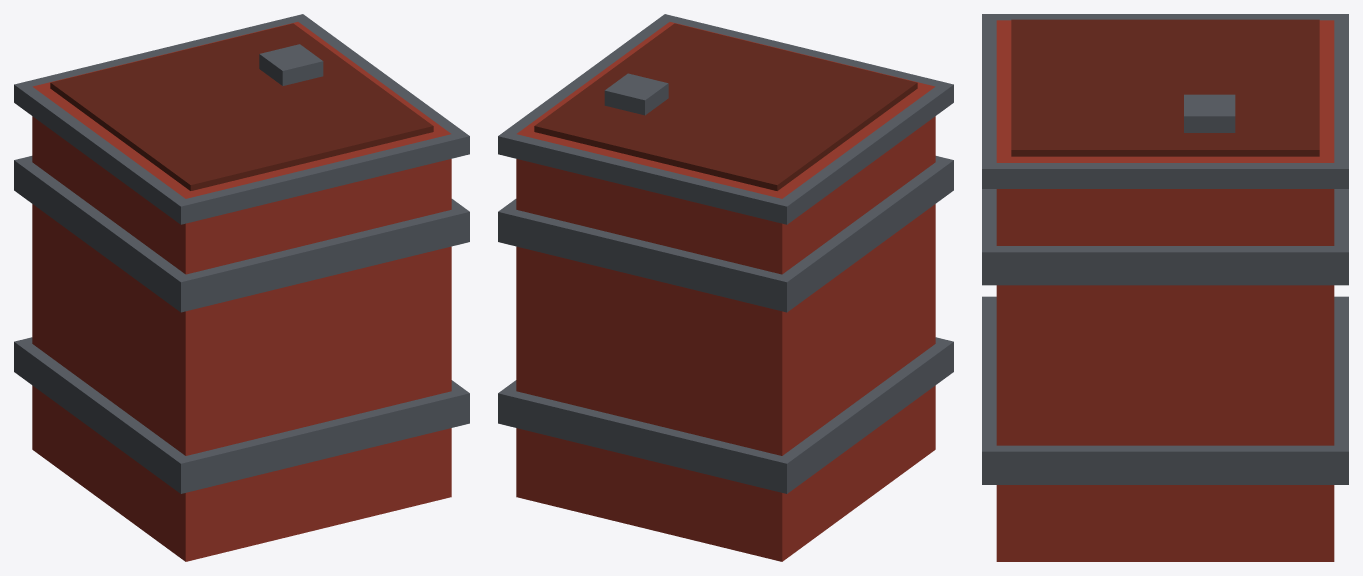
File: barrel.glb
The picture shows the model from 3 angles, left to right: view 1: azimuth 30°, elevation 25°; view 2: azimuth 150°, elevation 25°; view 3: azimuth 270°, elevation 25°; orthographic projection. The views are drawn at different scales.
Parts seen in each view (by area): view 1: Barrel; view 2: Barrel; view 3: Barrel.
Part boxes in pixels (x1=…): Barrel: x1=14, y1=14, x2=469, y2=561; Barrel: x1=498, y1=14, x2=953, y2=561; Barrel: x1=982, y1=14, x2=1348, y2=561.
Bounding box in the file's own units: 1 × 1.27 × 1.
